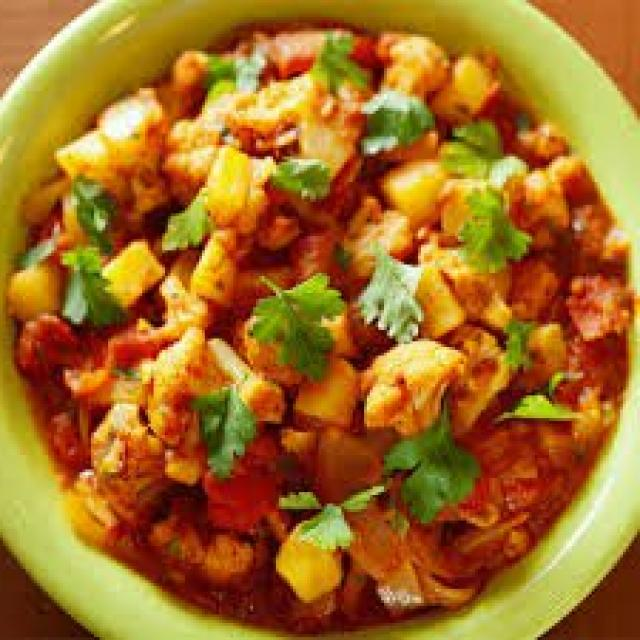Aloo Gobi: (98, 45, 518, 594)
